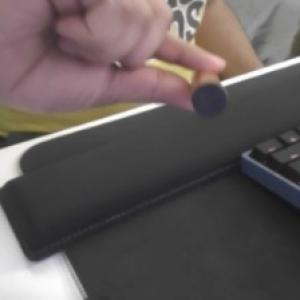Golden-E-Ciggirate: (187, 66, 229, 122)
